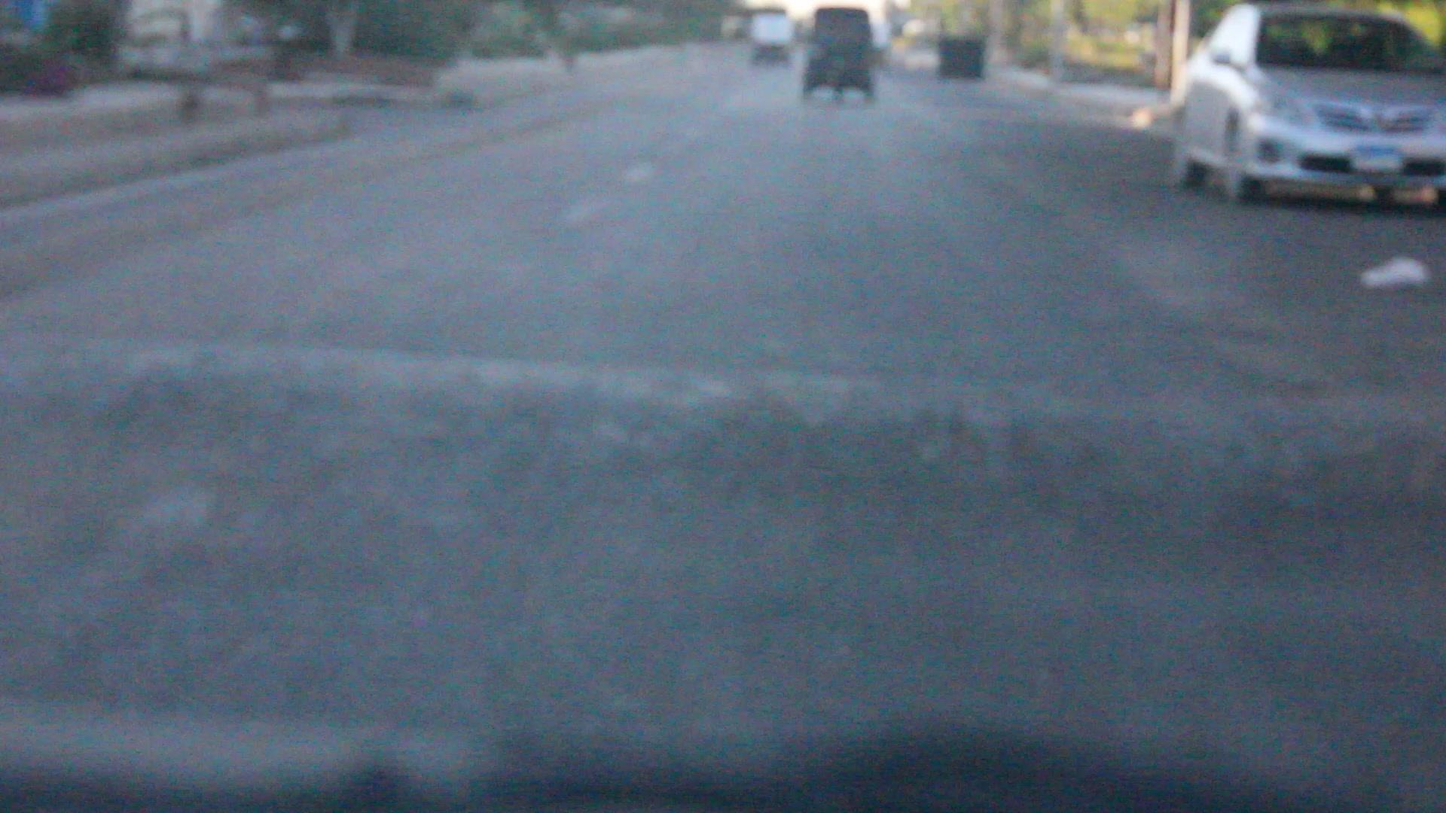Bump: (15, 337, 1437, 717)
